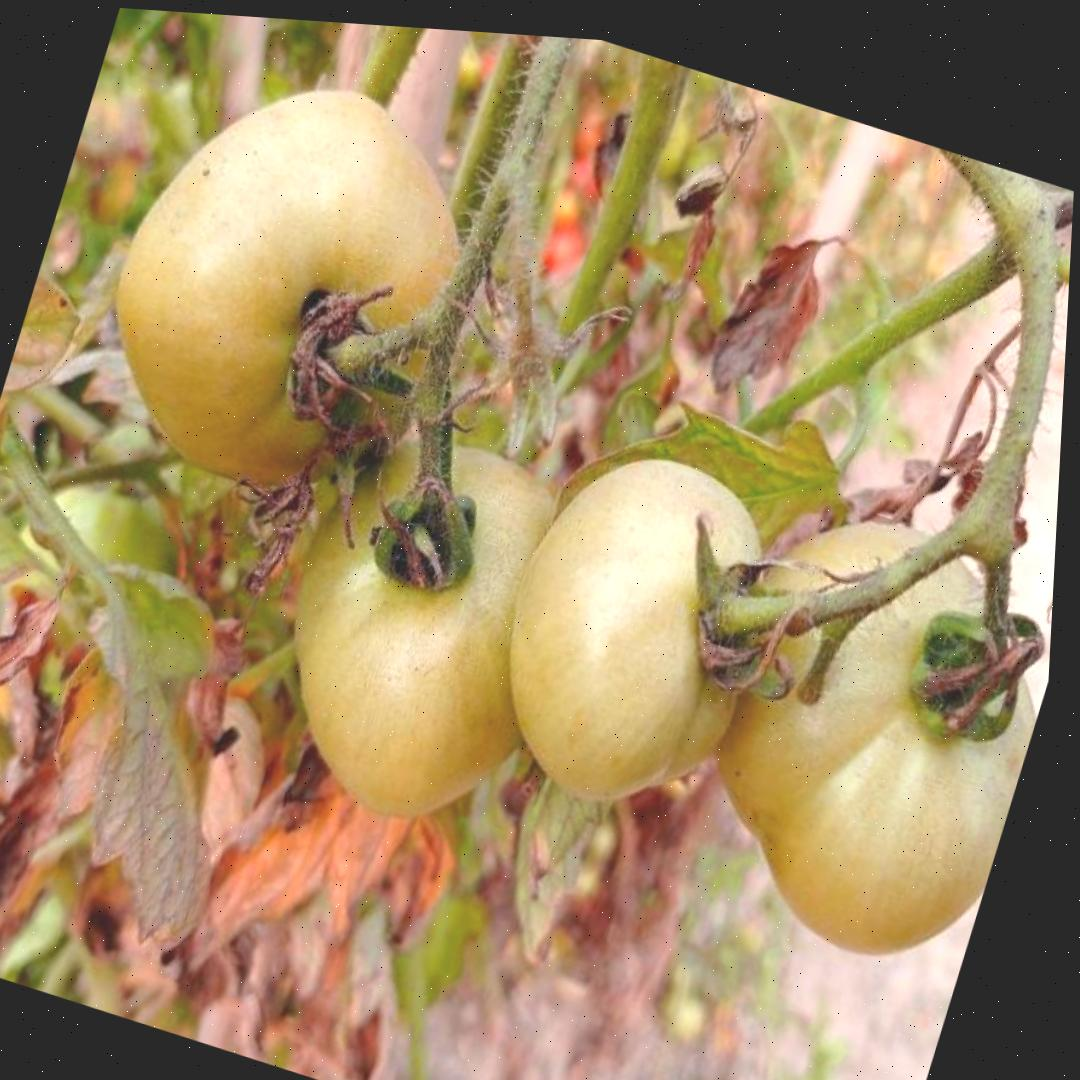mentah: (68, 27, 519, 541), (647, 468, 1058, 988), (232, 397, 609, 855), (460, 418, 799, 840)
